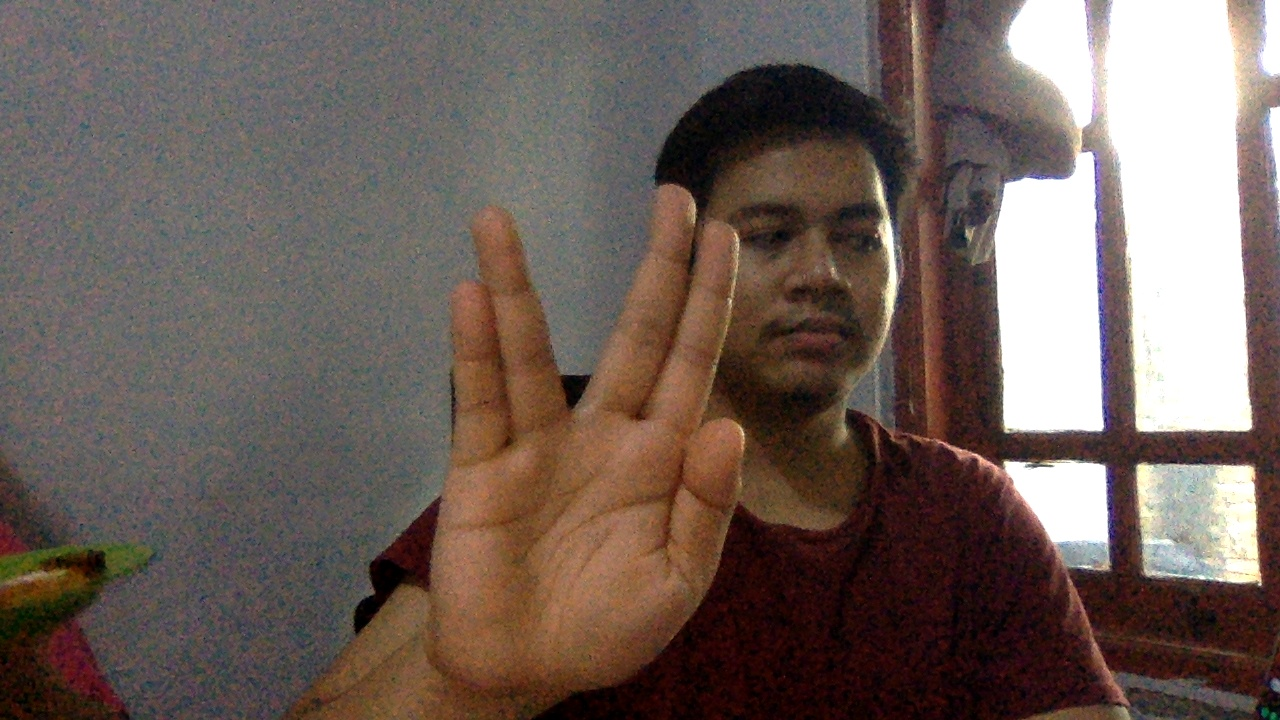livelong: (356, 165, 785, 696)
